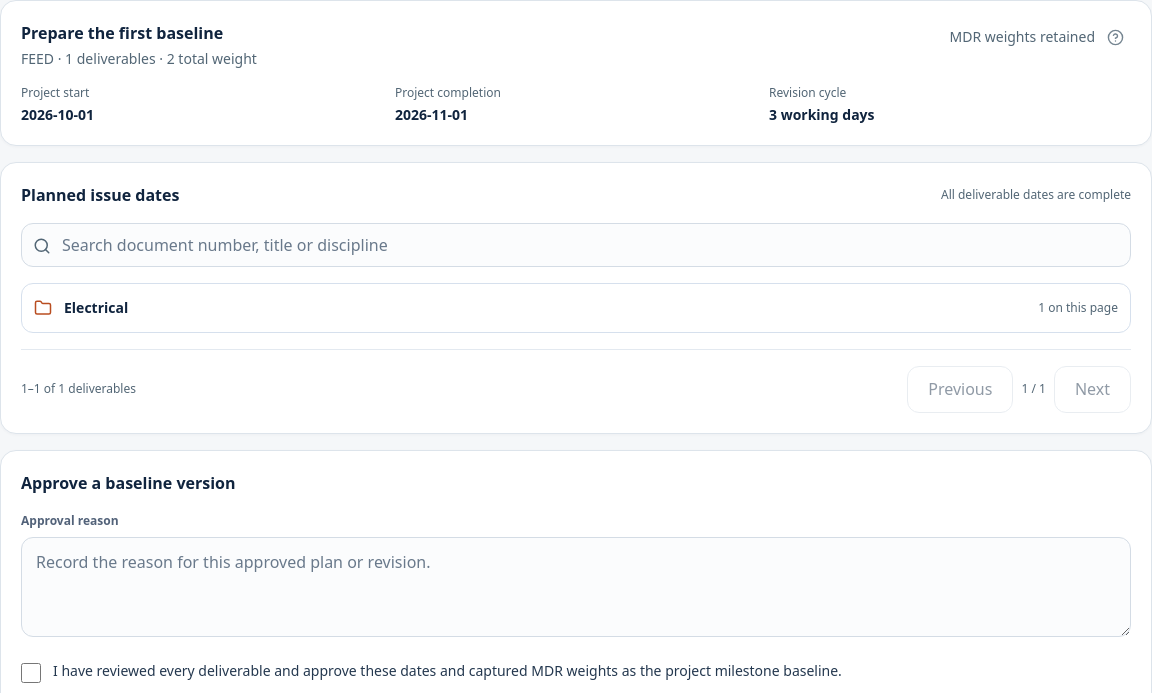
Test: weighted milestone baseline editor › shows truthful no-match feedback and retains complete approval payload
This screenshot has width=1152, height=693.
Type "no such document" into the search field at (576, 245), box [21, 223, 1131, 267]
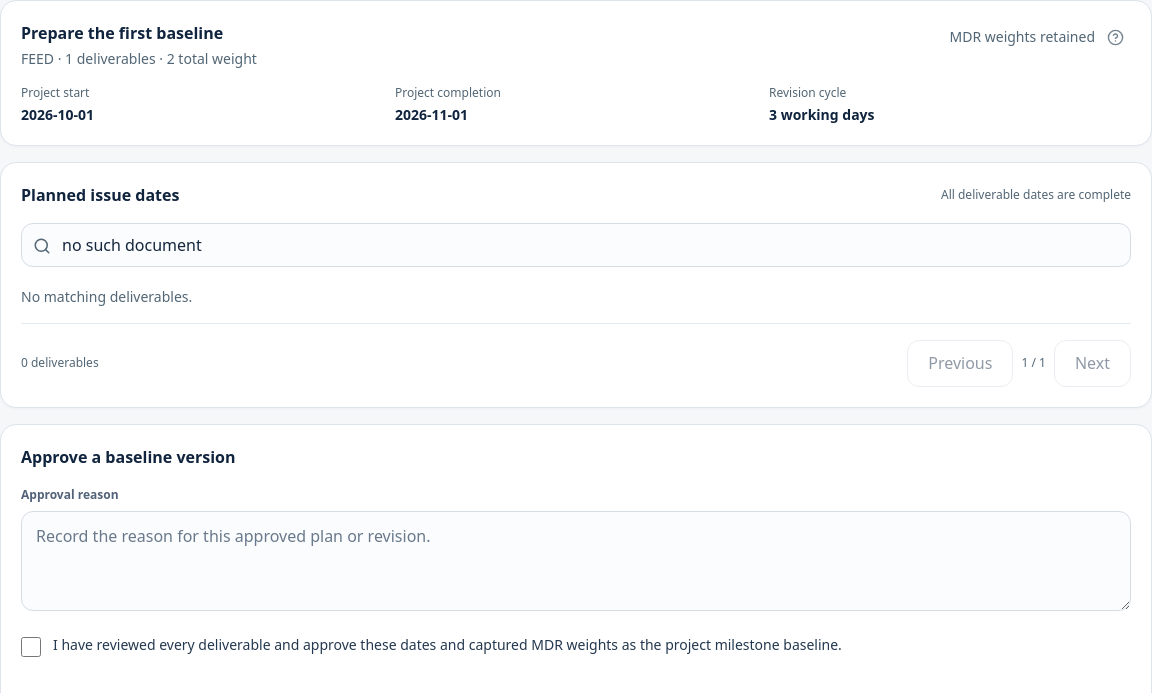
Expected: the text "No matching deliverables." is shown, [21, 287, 192, 306]
Expected: the text "0 deliverables" is shown, [21, 355, 99, 371]
